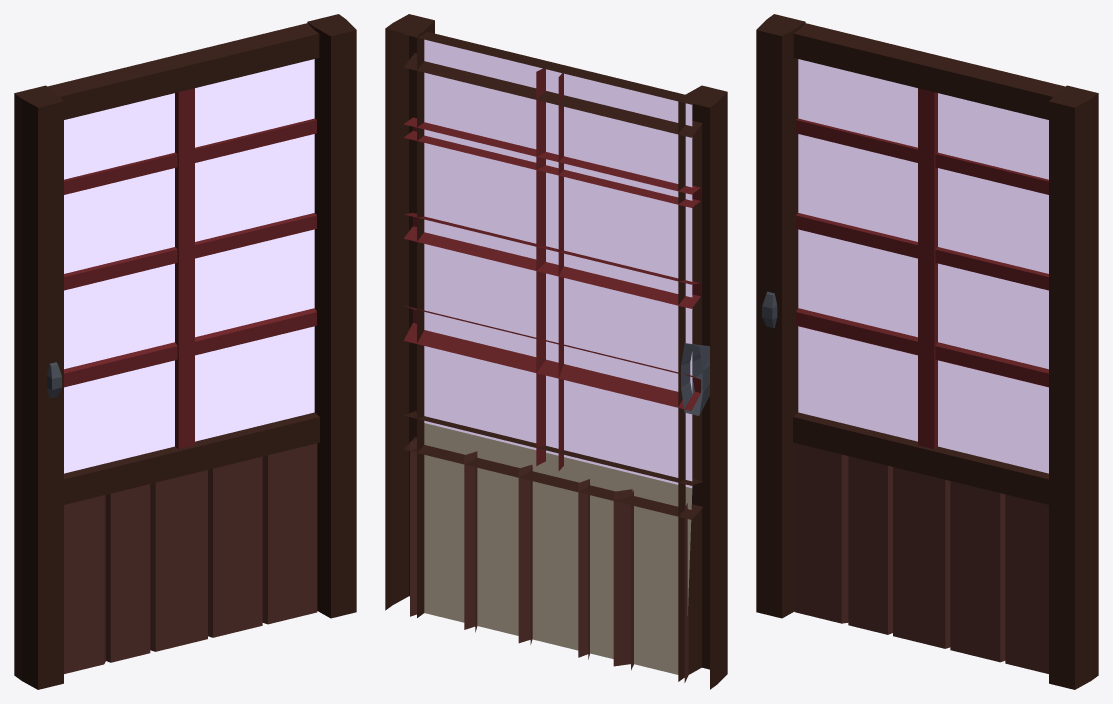
The model's file is Door_3_2  Asia.fbx.
3 views of the same model, side by side, from view 1: azimuth 30°, elevation 25°; view 2: azimuth 150°, elevation 25°; view 3: azimuth 330°, elevation 25° (orthographic).
Visible parts, largest first — view 1: Door_3_2; view 2: Door_3_2; view 3: Door_3_2.
Part boxes in pixels (bbox=[...]): Door_3_2: bbox=[14, 14, 356, 689]; Door_3_2: bbox=[385, 14, 727, 689]; Door_3_2: bbox=[756, 14, 1098, 689].
Size of the model in its own units: 1.14 by 1.96 by 0.1516.
